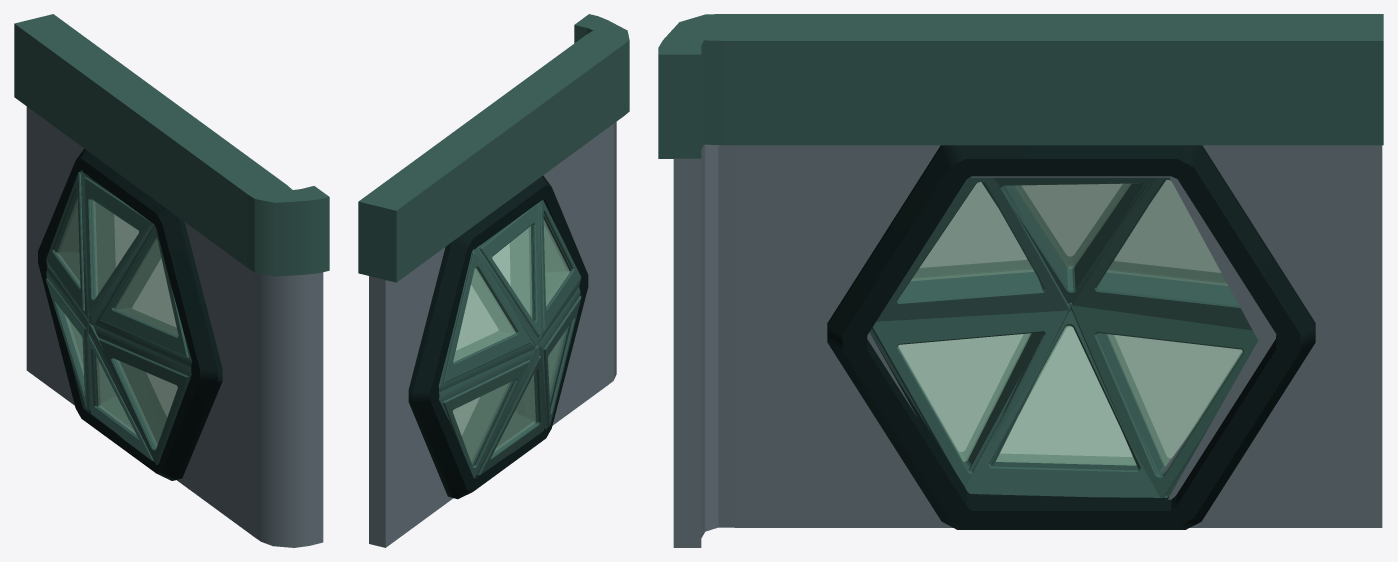
The model's file is Wallwithwindow.fbx.
3 renders of one model, left to right at view 1: azimuth 30°, elevation 25°; view 2: azimuth 150°, elevation 25°; view 3: azimuth 270°, elevation 25°, orthographic. The views are drawn at different scales.
Parts seen in each view (by area): view 1: pCube279; view 2: pCube279; view 3: pCube279.
Boxes of the visible parts, bbox=[...] form: pCube279: bbox=[14, 14, 329, 547]; pCube279: bbox=[358, 14, 629, 547]; pCube279: bbox=[658, 14, 1383, 547].
Size of the model in its own units: 50.2 by 175 by 232.
